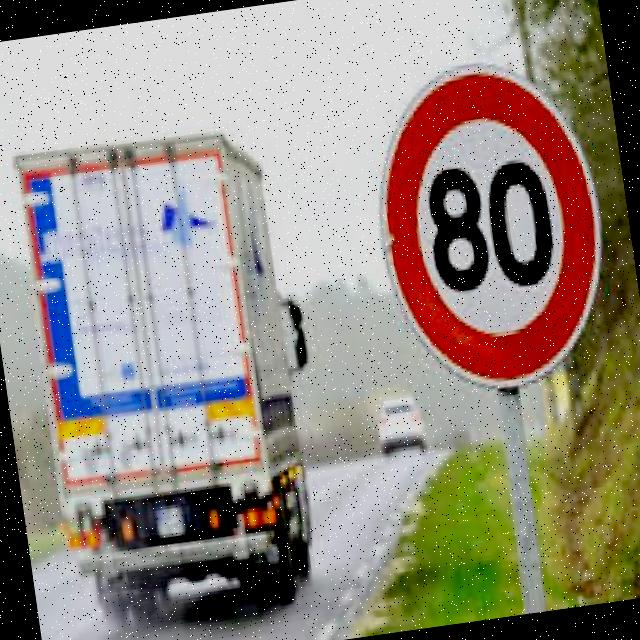Ograniczenie predkosci do 80: (364, 42, 621, 404)
